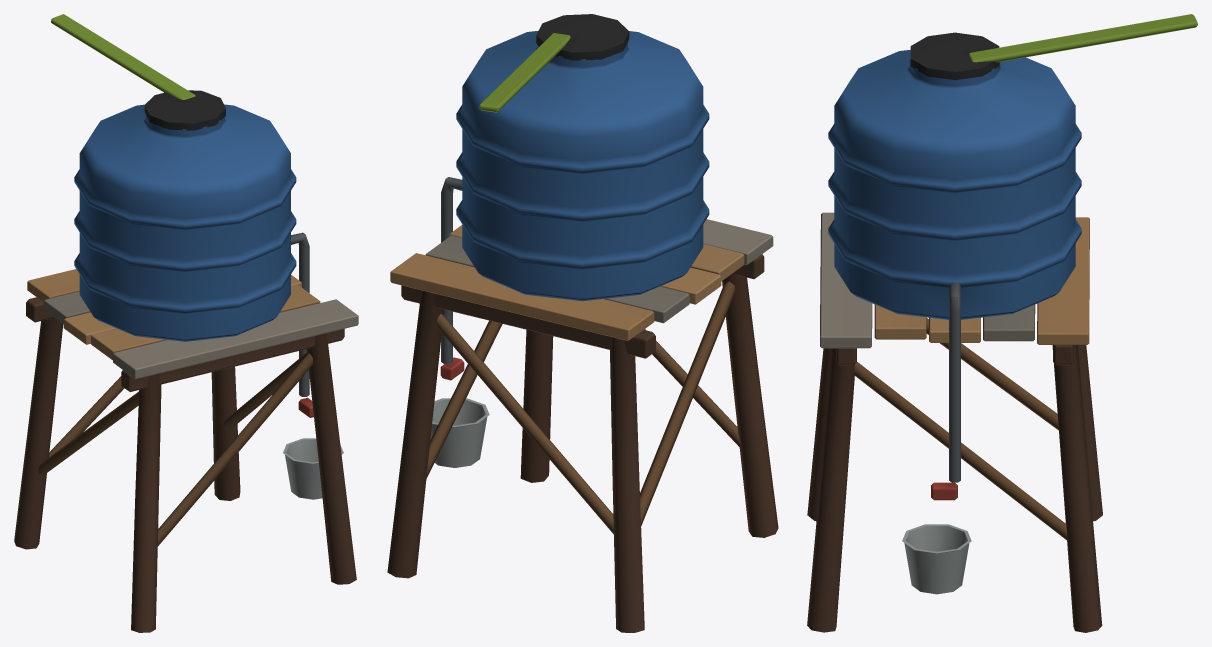
File: yard_tank.glb
The picture shows the model from 3 angles, left to right: view 1: azimuth 30°, elevation 25°; view 2: azimuth 150°, elevation 25°; view 3: azimuth 270°, elevation 25°; orthographic projection. The views are drawn at different scales.
Visible parts, largest first — view 1: yard_tank; view 2: yard_tank; view 3: yard_tank.
Part boxes in pixels (x1=…): yard_tank: x1=14, y1=14, x2=358, y2=632; yard_tank: x1=387, y1=14, x2=778, y2=632; yard_tank: x1=807, y1=14, x2=1197, y2=632.
Bounding box in the file's own units: 2.26 × 3.97 × 2.59.
